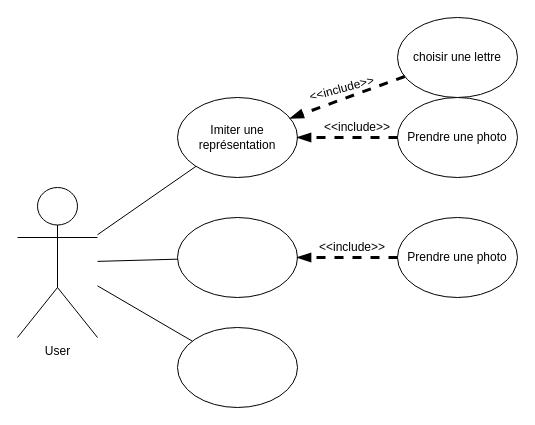
Image size: 535x425. Some labels were removed from this diagram. The shapes that lost their labels are listed below. From the top down, each one's box as (x1, y1, x2, y2) in pixels, then its label:
(176, 216, 298, 298): laissez le programme déduire
(176, 326, 298, 408): Créer Carte Eclairage
